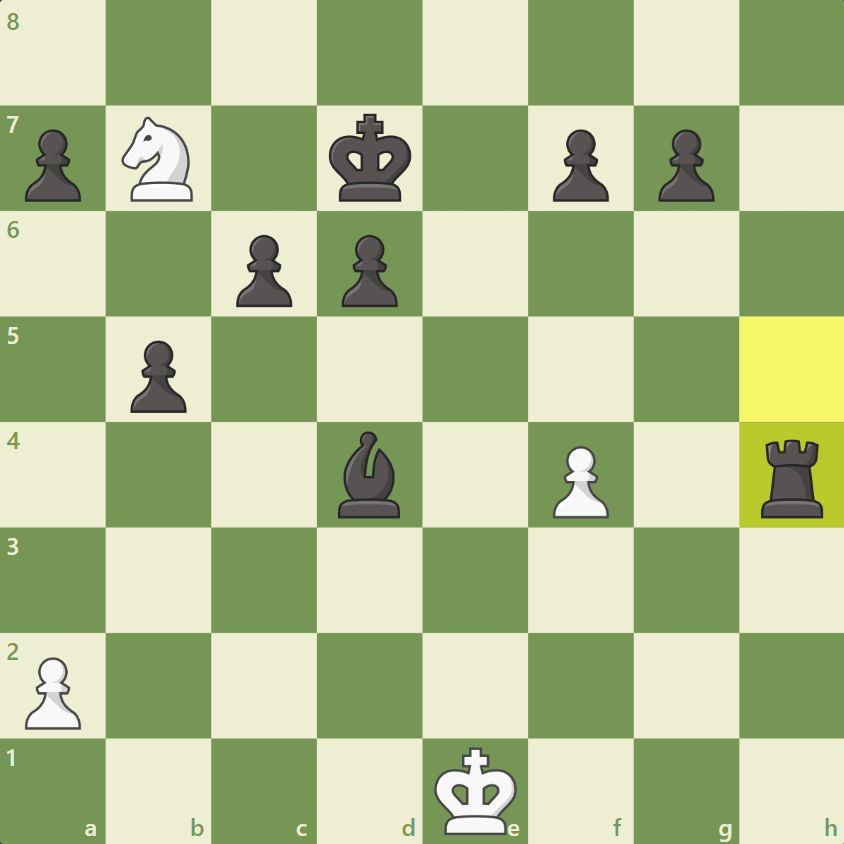K: (432, 744, 520, 839)
N: (119, 114, 198, 208)
P: (547, 444, 614, 522), (20, 655, 85, 734)
b: (333, 429, 405, 523)
k: (325, 109, 415, 207)
p: (21, 125, 84, 207), (129, 336, 191, 418), (232, 229, 294, 311), (338, 230, 400, 312), (655, 126, 717, 208), (550, 125, 612, 207)
r: (756, 437, 827, 523)
